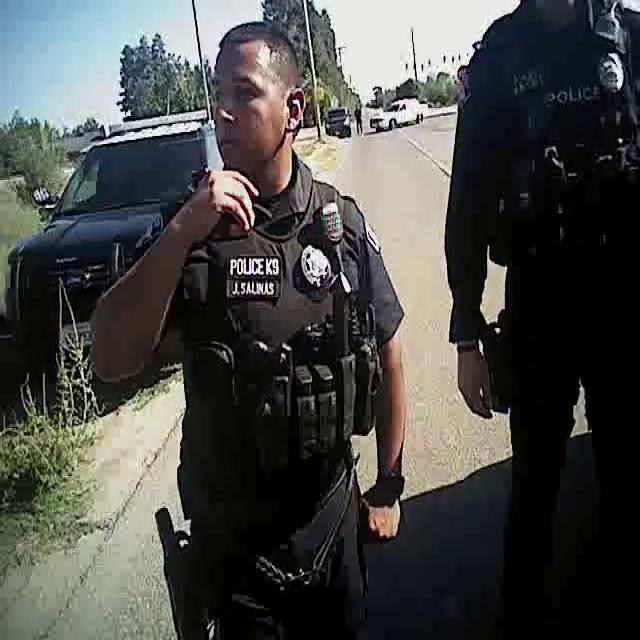gun: (137, 485, 212, 640)
